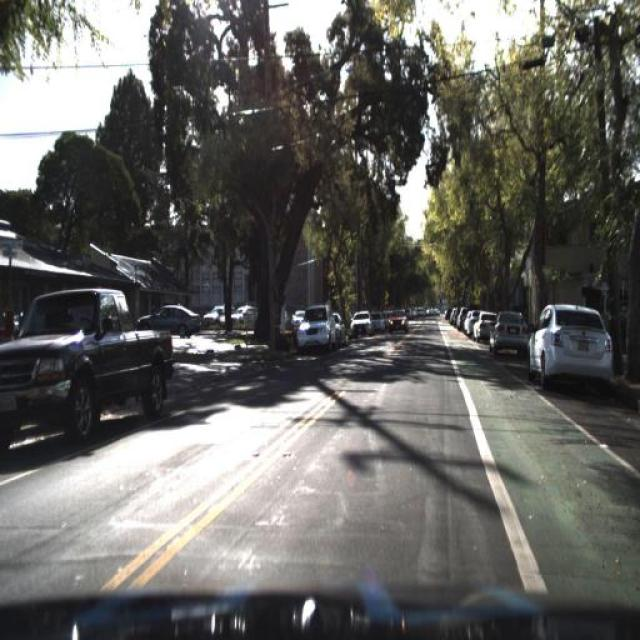car: (0, 282, 171, 458), (526, 294, 628, 398), (520, 302, 614, 393), (129, 294, 207, 340), (486, 310, 536, 358), (136, 302, 200, 338), (487, 306, 529, 358), (299, 300, 335, 350), (381, 300, 413, 342), (346, 306, 374, 338), (470, 306, 490, 348), (329, 304, 348, 345), (386, 304, 410, 331), (369, 307, 385, 335)
